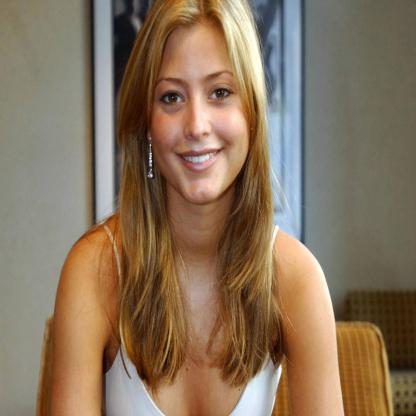long-hair: (105, 206, 288, 256)
